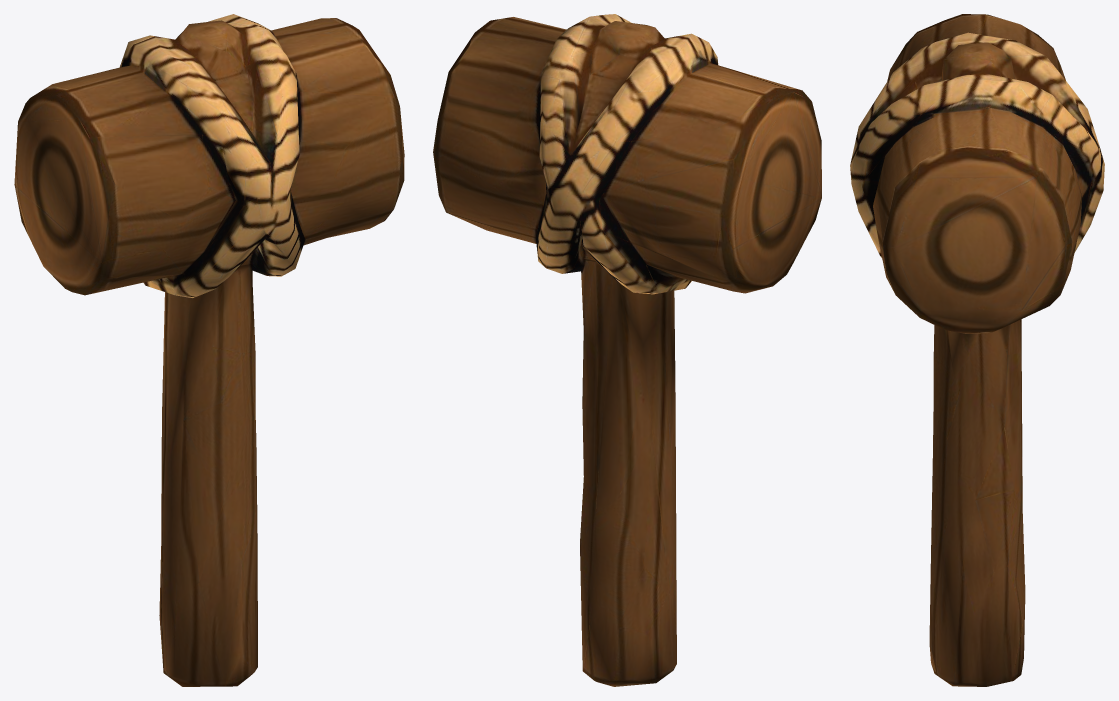
Rendered from hammer.glb.
The picture shows the model from 3 angles, left to right: view 1: azimuth 30°, elevation 25°; view 2: azimuth 150°, elevation 25°; view 3: azimuth 270°, elevation 25°; orthographic projection. The views are drawn at different scales.
Size of the model in its own units: 0.9464 by 1.92 by 0.7067.
Materials: 1 (1 with a texture image).
